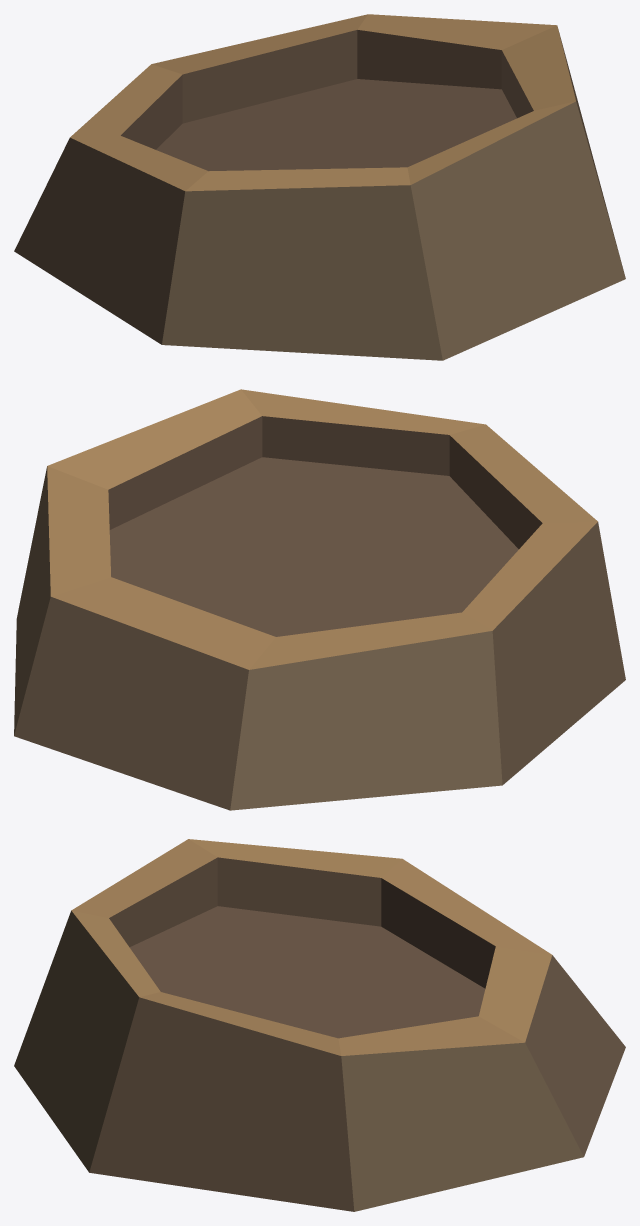
The model's file is fatterStump.fbx.
3 renders of one model, top to bottom at view 1: azimuth 30°, elevation 25°; view 2: azimuth 150°, elevation 25°; view 3: azimuth 270°, elevation 25°, orthographic. The views are drawn at different scales.
Visible parts, largest first — view 1: fatterStump; view 2: fatterStump; view 3: fatterStump.
Boxes of the visible parts, <box> form: fatterStump: <box>14,14,625,360</box>; fatterStump: <box>14,389,625,810</box>; fatterStump: <box>14,839,625,1211</box>.
Bounding box in the file's own units: 58.43 × 18.03 × 61.11.
